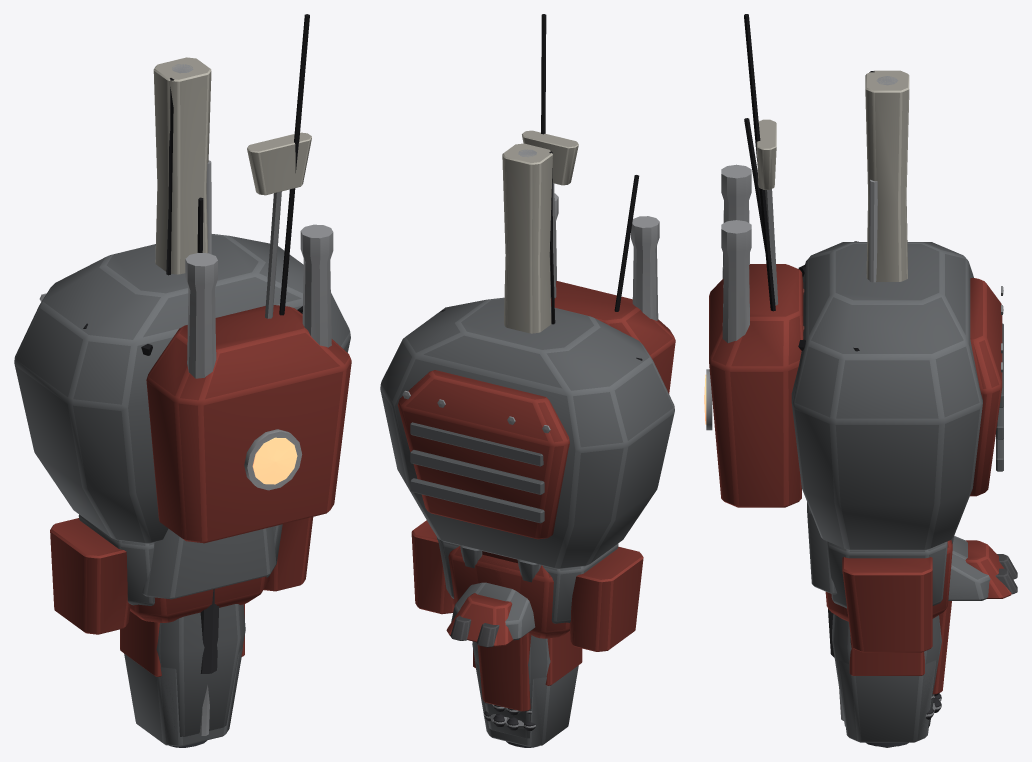
The model's file is droid_parts.glb.
3 views of the same model, side by side, from view 1: azimuth 30°, elevation 25°; view 2: azimuth 150°, elevation 25°; view 3: azimuth 270°, elevation 25° (orthographic). The views are drawn at different scales.
Visible parts, largest first — view 1: Big_Torso, Big_Pelvis, FP_Arm_D, Big_Thigh_L, Big_Head, Gear_hunter, Big_Thigh_R, Big_Shin_L, Big_Shin_R, Big_UpperArm_L, Gear_marshal, Big_Forearm_L (+1 smaller); view 2: Big_Torso, Big_Pelvis, FP_Arm_D, Big_Thigh_L, Big_Shin_L, Big_Boot_L, Big_UpperArm_L, Gear_hunter, Big_UpperArm_R, Big_Boot_R, Big_Forearm_L, Big_Thigh_R (+4 smaller); view 3: Big_Torso, Big_Pelvis, FP_Arm_D, Big_Shin_L, Big_Shin_R, Big_Boot_L, Big_Thigh_L, Big_Forearm_R, Gear_marshal, Gear_hunter, Big_Thigh_R, Big_Head (+2 smaller).
Boxes of the visible parts, box(x1,y1,x2,y2) form: Big_Torso: box(14, 224, 351, 543); Big_Pelvis: box(50, 514, 313, 634); FP_Arm_D: box(153, 57, 211, 275); Big_Thigh_L: box(156, 589, 245, 736); Big_Head: box(142, 526, 276, 599); Gear_hunter: box(247, 132, 311, 318); Big_Thigh_R: box(156, 590, 245, 736); Big_Shin_L: box(124, 647, 242, 746); Big_Shin_R: box(124, 650, 241, 746); Big_UpperArm_L: box(130, 584, 235, 622); Gear_marshal: box(197, 14, 309, 315); Big_Forearm_L: box(120, 611, 161, 676); Big_Torso: box(380, 193, 675, 569); Big_Pelvis: box(411, 520, 643, 651); FP_Arm_D: box(502, 143, 555, 333); Big_Thigh_L: box(472, 632, 550, 738); Big_Shin_L: box(474, 660, 578, 746); Big_Boot_L: box(446, 582, 534, 646); Big_UpperArm_L: box(476, 554, 569, 638); Gear_hunter: box(522, 130, 578, 297); Big_UpperArm_R: box(448, 546, 521, 605); Big_Boot_R: box(448, 582, 534, 645); Big_Forearm_L: box(506, 631, 582, 730); Big_Thigh_R: box(472, 633, 549, 738); Big_Torso: box(704, 164, 1003, 550); Big_Pelvis: box(827, 541, 947, 652); FP_Arm_D: box(865, 70, 909, 282); Big_Shin_L: box(838, 660, 935, 742); Big_Shin_R: box(838, 661, 935, 742); Big_Boot_L: box(948, 536, 1010, 600); Big_Thigh_L: box(828, 601, 951, 727); Big_Forearm_R: box(849, 635, 941, 719); Gear_marshal: box(744, 14, 775, 311); Gear_hunter: box(756, 119, 778, 305); Big_Thigh_R: box(828, 601, 951, 727); Big_Head: box(807, 502, 953, 594).
Bounding box in the file's own units: 0.6373 × 1.65 × 0.6231.
